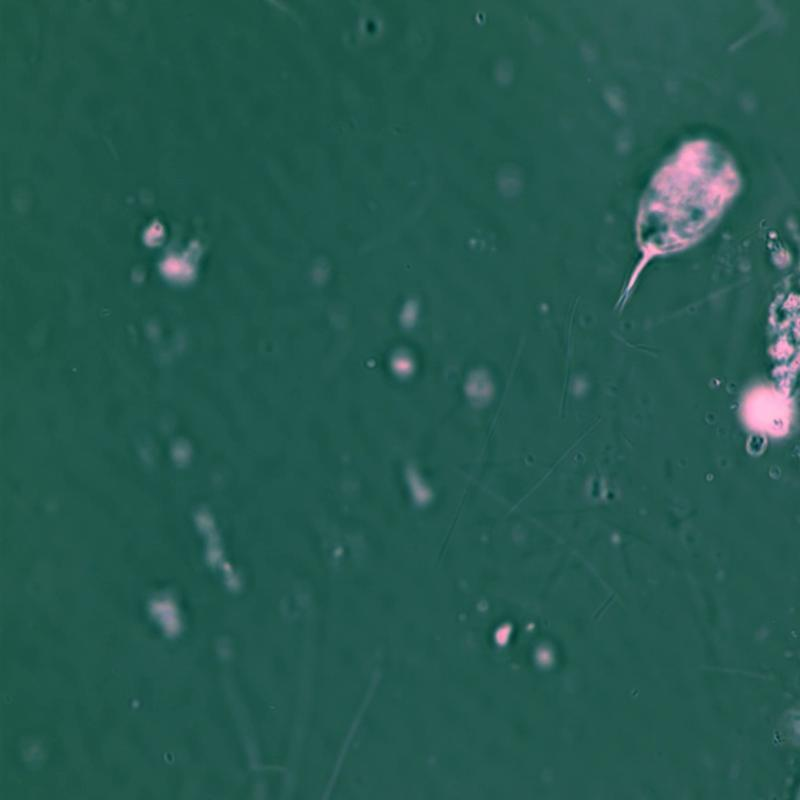depth:40: (599, 107, 758, 338)
